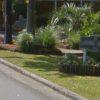Tree: (48, 1, 100, 43)
